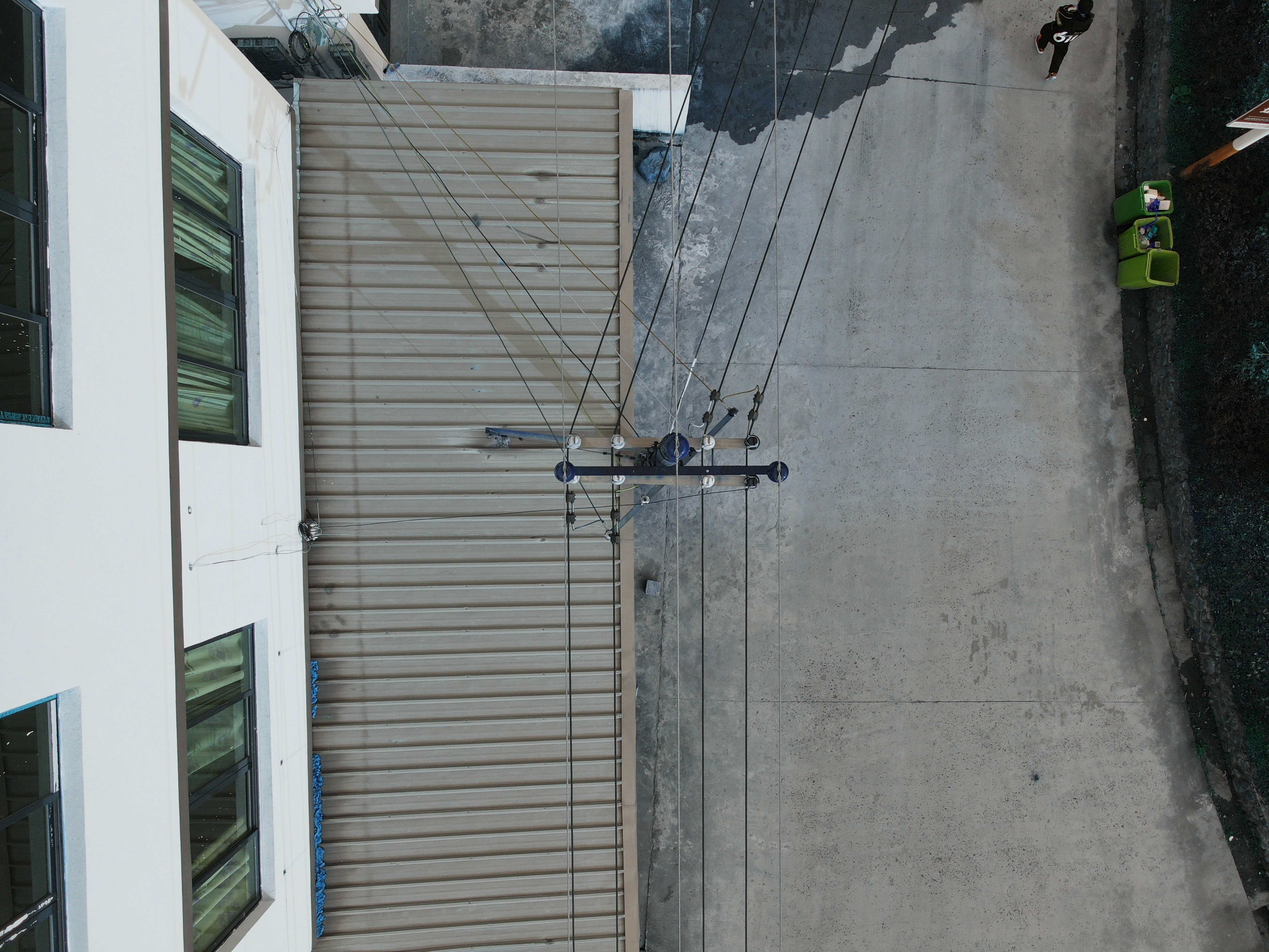severe_soiling_no_discharge_whole: (565, 433, 582, 450), (610, 433, 627, 450), (640, 495, 651, 505)
